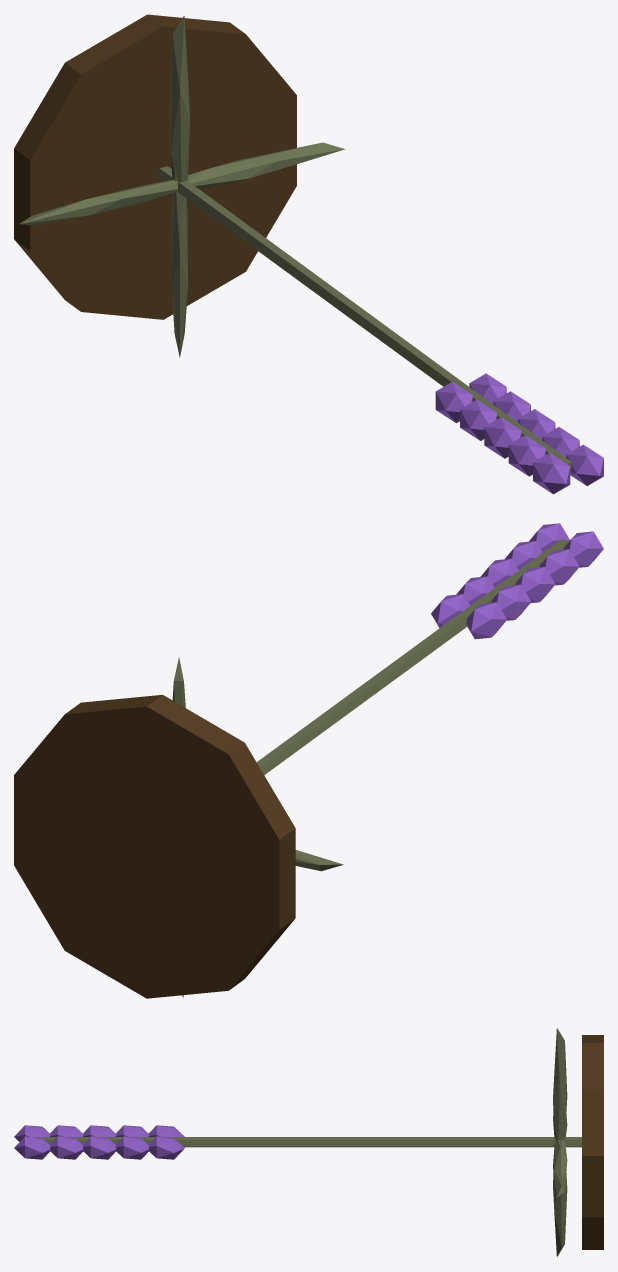
The model's file is 4_mature.obj.
3 views of the same model, one above another, from view 1: azimuth 30°, elevation 25°; view 2: azimuth 150°, elevation 25°; view 3: azimuth 270°, elevation 25° (orthographic). The views are drawn at different scales.
Visible parts, largest first — view 1: lavender_4_mature; view 2: lavender_4_mature; view 3: lavender_4_mature.
Boxes of the visible parts, x1=… form: lavender_4_mature: x1=14, y1=14, x2=603, y2=494; lavender_4_mature: x1=14, y1=523, x2=603, y2=998; lavender_4_mature: x1=14, y1=1028, x2=603, y2=1256.
Bounding box in the file's own units: 0.2331 × 0.2331 × 0.538.
